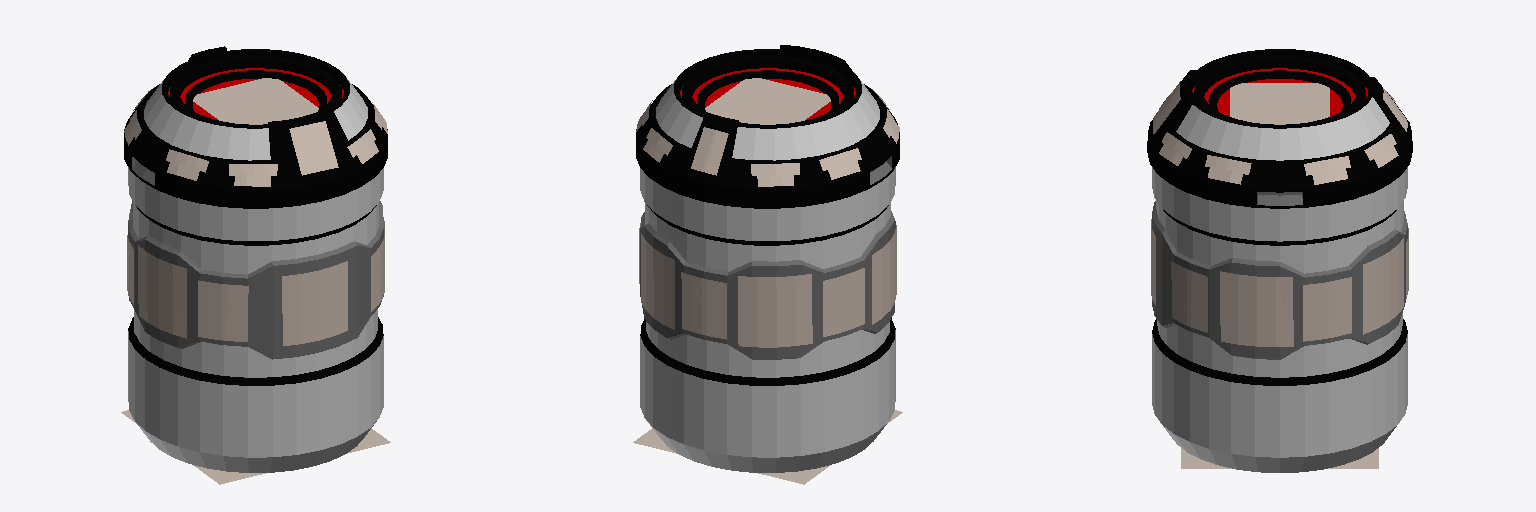
The model's file is Barrel.obj.
The picture shows the model from 3 angles: view 1: azimuth 30°, elevation 25°; view 2: azimuth 150°, elevation 25°; view 3: azimuth 270°, elevation 25°; orthographic projection.
Parts seen in each view (by area): view 1: Barrel_Cylinder.004; view 2: Barrel_Cylinder.004; view 3: Barrel_Cylinder.004.
Boxes of the visible parts, x1,y1,x2,y2 form: Barrel_Cylinder.004: [121, 46, 390, 484]; Barrel_Cylinder.004: [633, 45, 902, 484]; Barrel_Cylinder.004: [1147, 49, 1412, 472].
Size of the model in its own units: 0.5702 by 0.8134 by 0.5702.